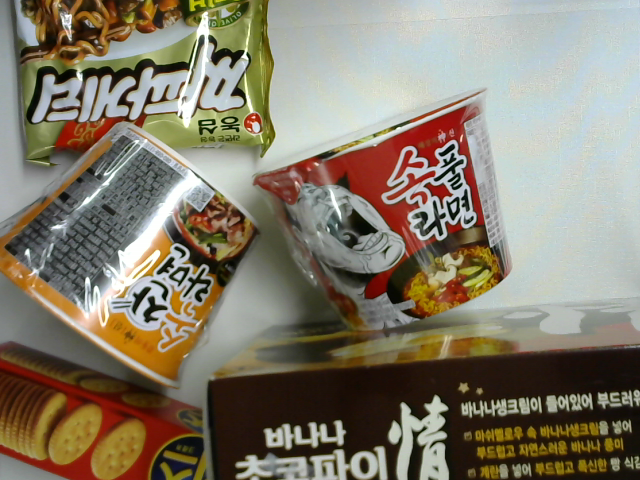Choco_Pie_Banana: (205, 285, 640, 480)
Hejangchan: (1, 114, 262, 393)
Hejangpul: (245, 83, 518, 350)
Olive_Chapaghetti: (1, 1, 291, 174)
Ritz_Cracker: (1, 335, 241, 477)
